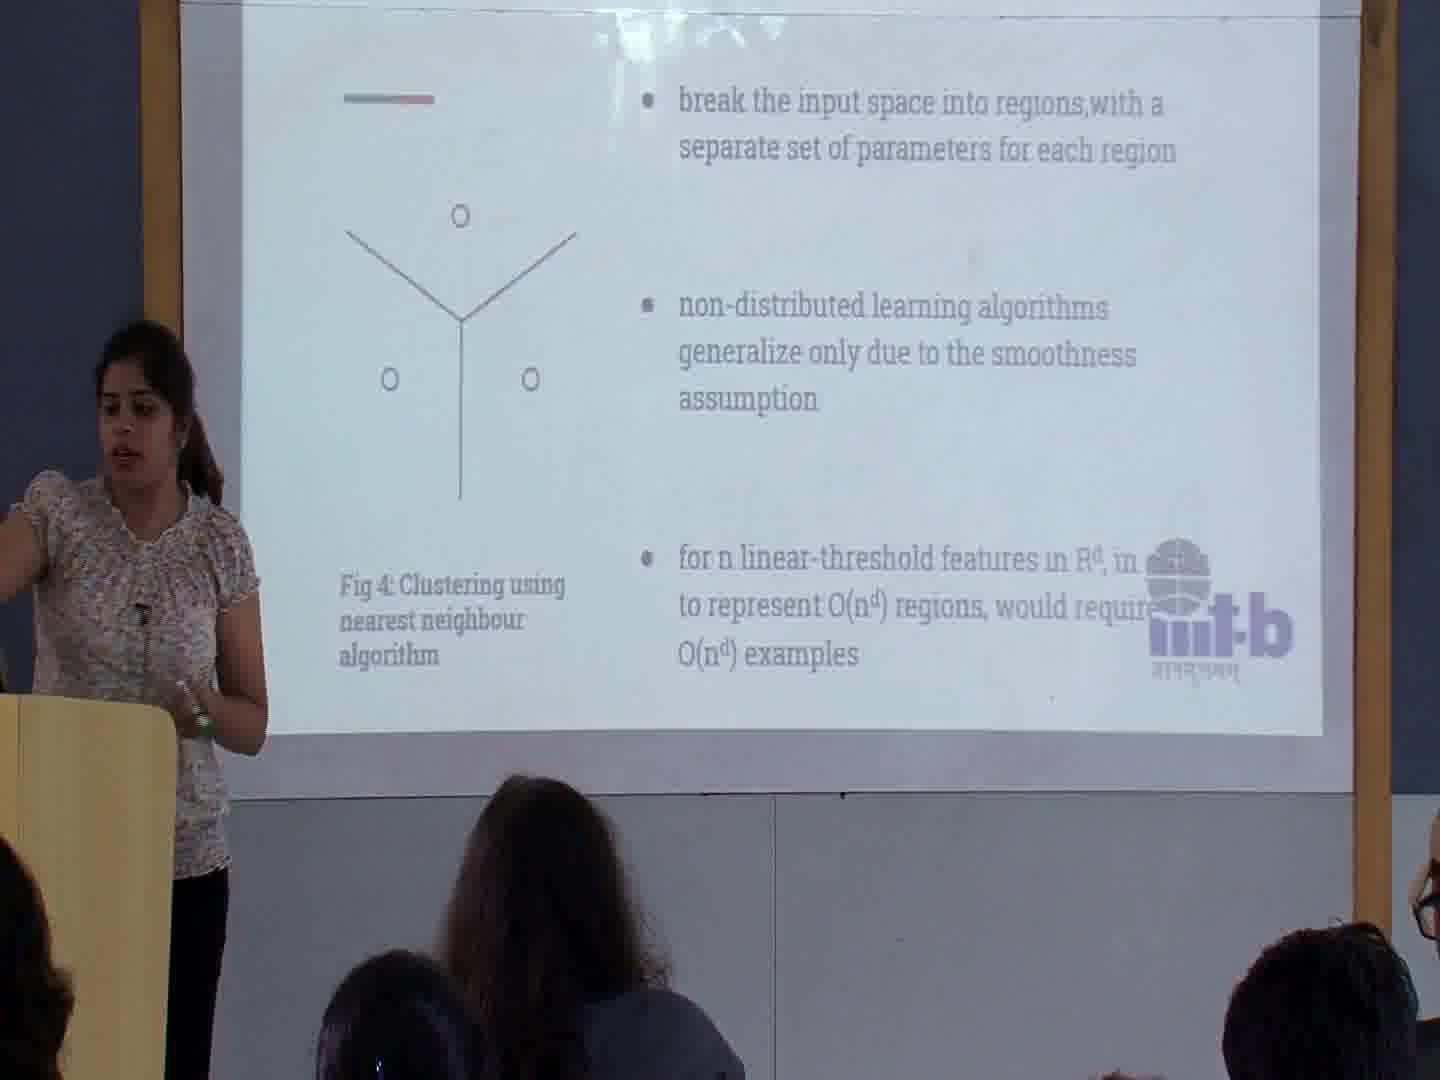slide: (242, 1, 1322, 735)
